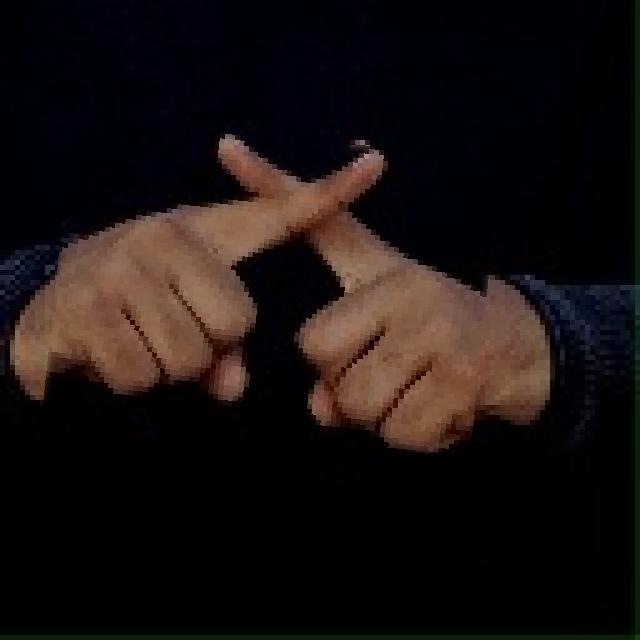X: (50, 126, 494, 448)
